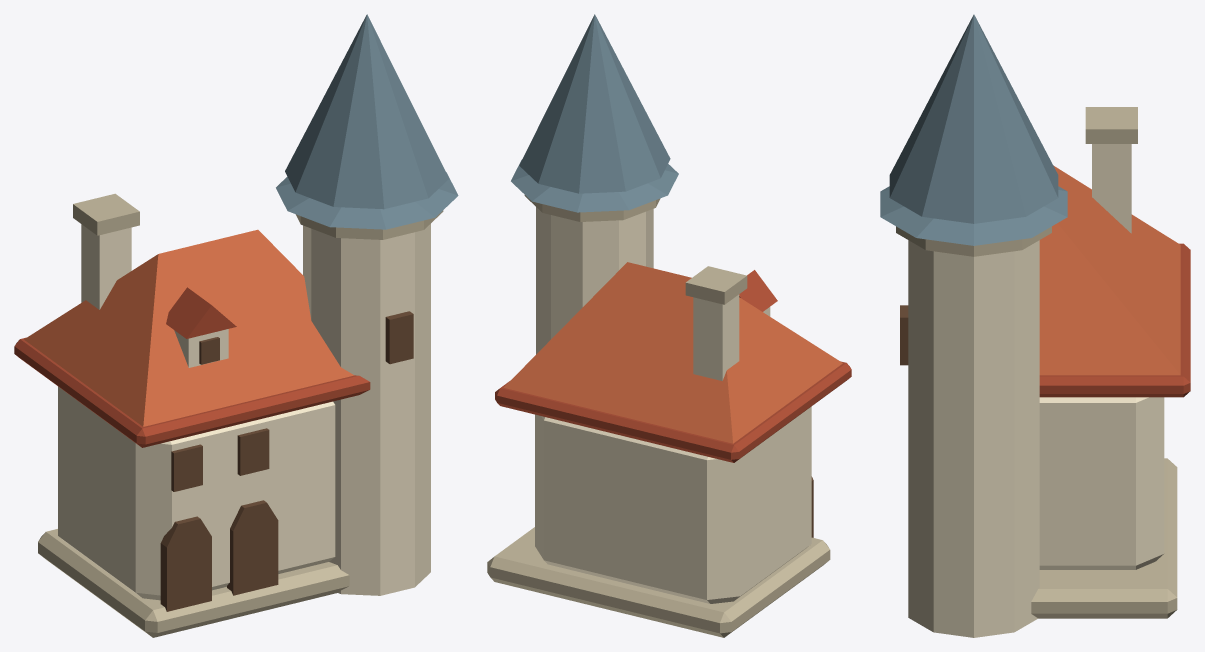
File: ns-house-3e.glb
3 renders of one model, left to right at view 1: azimuth 30°, elevation 25°; view 2: azimuth 150°, elevation 25°; view 3: azimuth 270°, elevation 25°, orthographic. The views are drawn at different scales.
Parts seen in each view (by area): view 1: Cube; view 2: Cube; view 3: Cube.
Part boxes in pixels (x1,y1,x2,y2): Cube: (14, 14, 458, 637); Cube: (487, 14, 851, 637); Cube: (880, 14, 1190, 637).
Size of the model in its own units: 0.63 by 1 by 0.4727.
